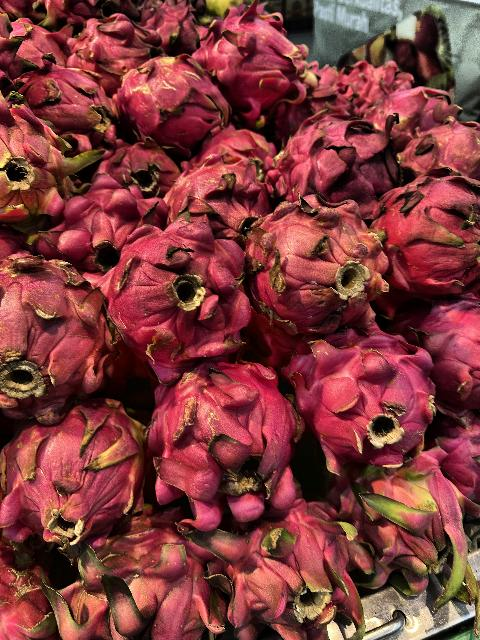buah-naga-belum-matang: (334, 458, 472, 590), (56, 528, 213, 640)
buah-naga-matang: (135, 364, 309, 538), (286, 323, 452, 472), (107, 226, 261, 364), (200, 520, 372, 640), (9, 410, 166, 530), (0, 245, 108, 417), (368, 166, 480, 308), (240, 196, 378, 310), (268, 111, 398, 217), (0, 83, 86, 229), (206, 0, 310, 110), (124, 52, 240, 148), (146, 148, 272, 232), (39, 180, 166, 248), (404, 304, 480, 392), (55, 17, 151, 84), (402, 106, 480, 170)
